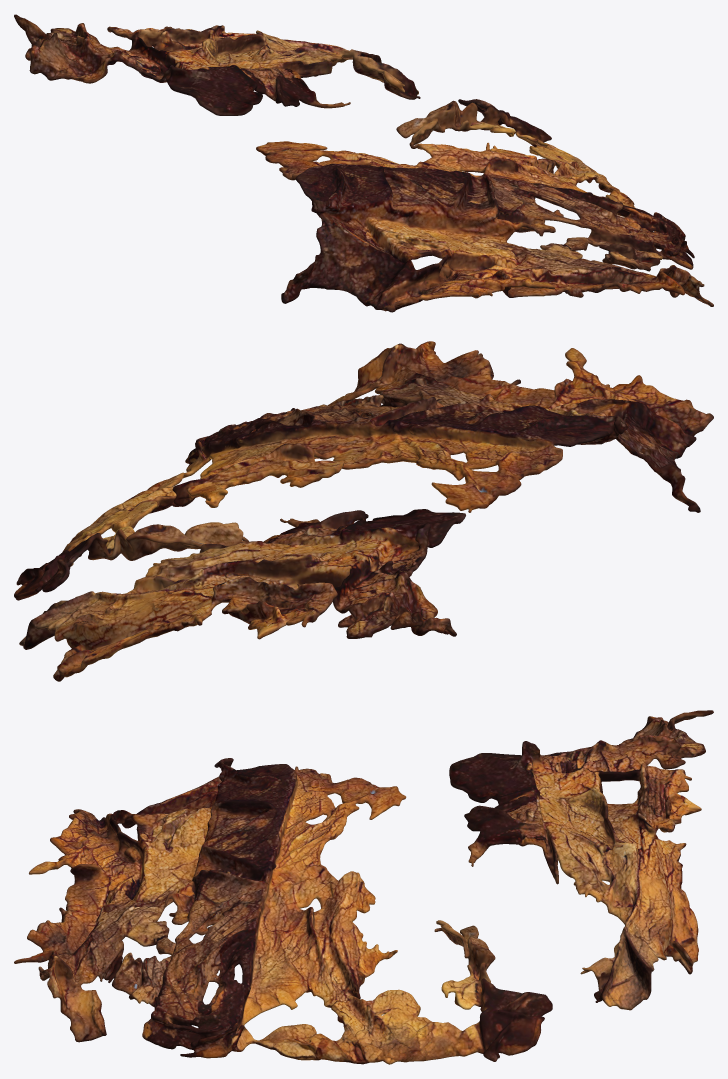
File: coat.glb
3 renders of one model, top to bottom at view 1: azimuth 30°, elevation 25°; view 2: azimuth 150°, elevation 25°; view 3: azimuth 270°, elevation 25°, orthographic. The views are drawn at different scales.
Visible parts, largest first — view 1: tripo_node_6f0c5fa5-98c2-4226-937d-96e37a2027c0; view 2: tripo_node_6f0c5fa5-98c2-4226-937d-96e37a2027c0; view 3: tripo_node_6f0c5fa5-98c2-4226-937d-96e37a2027c0.
Part boxes in pixels (x1=…): tripo_node_6f0c5fa5-98c2-4226-937d-96e37a2027c0: x1=14, y1=14, x2=713, y2=312; tripo_node_6f0c5fa5-98c2-4226-937d-96e37a2027c0: x1=14, y1=341, x2=713, y2=681; tripo_node_6f0c5fa5-98c2-4226-937d-96e37a2027c0: x1=14, y1=710, x2=713, y2=1064.
Size of the model in its own units: 0.7286 by 0.2365 by 0.9999.
Materials: 1 (1 with a texture image).
